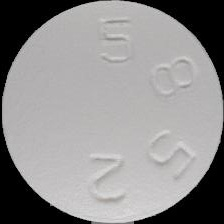0093-5852: (0, 0, 224, 224)
